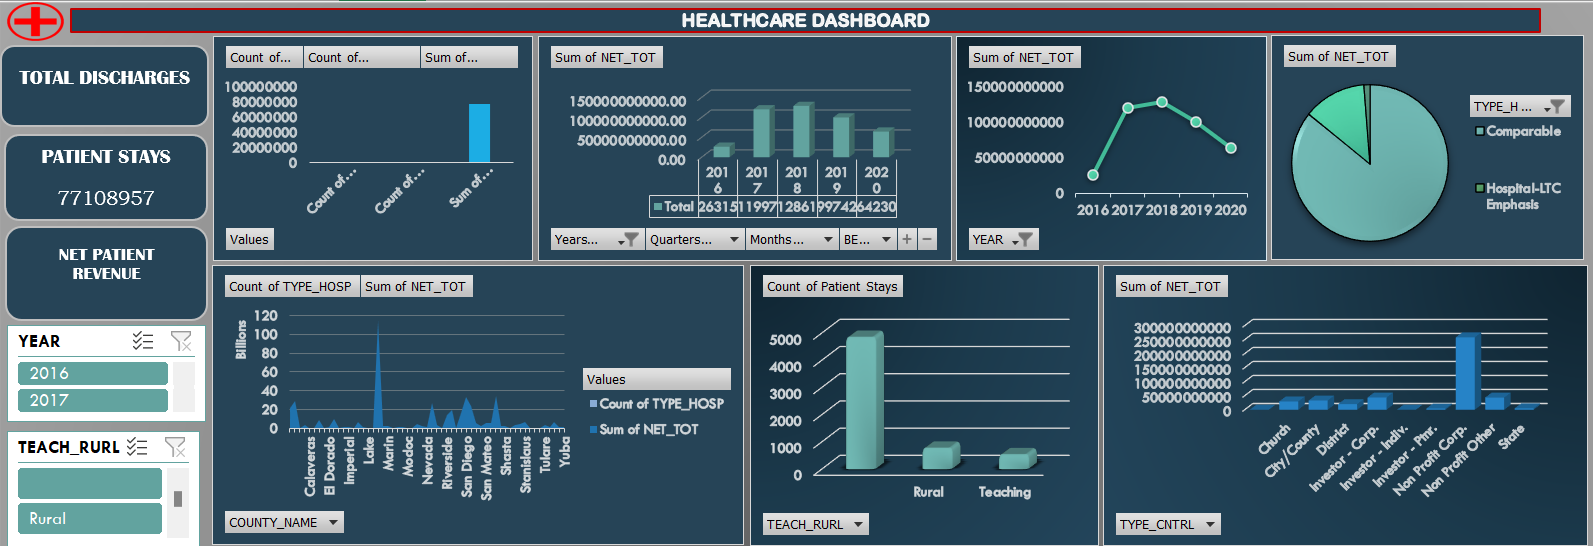

The dashboard page shown, as its layout file describes it:
{"tool":"tableau","page":{"name":"Dashboard 1","canvas":[1000,1000],"units":"permille","ordinal":0},"visuals":[{"type":"image","param":"Image/medical-report.png","box":[627.6,11.8,48.3,63.5]},{"type":"filter","title":"State Wise No of hospital /Revenue ","param":"[federated.0rp2sl00ircbj41g0j7jx0wzamno].[none:COUNTY_NAME:nk]","box":[882.2,11.8,96.1,59.1]},{"type":"image","param":"Image/medical-report.png","box":[289.2,15.2,33.8,65.9]},{"type":"text","box":[322.1,15.2,340.3,59.1]},{"type":"worksheet","title":"Total Discharge","mark":"Automatic","rows":["DIS_TOT"],"cols":["TYPE_HOSP"],"box":[3.7,85.8,161.3,580.5]},{"type":"worksheet","title":"Patient Days","mark":"Bar","rows":["DAY_TOT"],"cols":["TYPE_HOSP"],"box":[166.2,85.8,171.8,580.5]},{"type":"worksheet","title":" Patient Stays   ","mark":"Automatic","rows":["PAT_DAY_TOT_CC"],"cols":["TEACH_RURL"],"box":[338.9,85.8,157.2,580.5]},{"type":"worksheet","title":"Net Patient Revenue ","mark":"Automatic","rows":["NET_TOT"],"cols":["TYPE_CNTRL"],"box":[497.2,85.8,163.9,580.5]},{"type":"worksheet","title":"Type Of hospital Revenue","mark":"Automatic","rows":["NET_TOT"],"cols":["TYPE_HOSP"],"box":[663.6,85.8,158.4,581.7]},{"type":"worksheet","title":" Total Patient, Total Doctor, Total Hospital","mark":"Circle","box":[823.8,85.8,179.9,581.7]},{"type":"worksheet","title":"MTD/QTD/YTD Revenue","mark":"Bar","rows":["NET_TOT"],"cols":["BEG_DATE"],"box":[733.9,666.3,267.4,332.6]},{"type":"worksheet","title":"Revenue Trend","mark":"Line","rows":["NET_TOT"],"cols":["YEAR"],"box":[4.3,668.6,295.3,323.2]},{"type":"worksheet","title":"State Wise No of hospital /Revenue ","mark":"Automatic","rows":["NET_TOT"],"cols":["TYPE_HOSP","COUNTY_NAME"],"box":[301.5,668.6,430.5,326.7]},{"type":"legend","title":"MTD/QTD/YTD Revenue","param":"[federated.0rp2sl00ircbj41g0j7jx0wzamno].[yr:BEG_DATE:ok]","box":[923.8,729.7,72.7,74.3]}]}

Visuals, with their boxes on the dashboard's canvas, which has no fixed pixel size, in thousandths of its width and height (x1, y1, x2, y2). These are canvas units, not pixel positions in the 1593x546 screenshot, which may show the page scaled, cropped or inside an application window:
image: <box>628,12,676,75</box>
"State Wise No of hospital /Revenue " filter: <box>882,12,978,71</box>
image: <box>289,15,323,81</box>
text: <box>322,15,662,74</box>
"Total Discharge" worksheet: <box>4,86,165,666</box>
"Patient Days" worksheet (Bar marks): <box>166,86,338,666</box>
" Patient Stays   " worksheet: <box>339,86,496,666</box>
"Net Patient Revenue " worksheet: <box>497,86,661,666</box>
"Type Of hospital Revenue" worksheet: <box>664,86,822,668</box>
" Total Patient, Total Doctor, Total Hospital" worksheet (Circle marks): <box>824,86,1004,668</box>
"MTD/QTD/YTD Revenue" worksheet (Bar marks): <box>734,666,1001,999</box>
"Revenue Trend" worksheet (Line marks): <box>4,669,300,992</box>
"State Wise No of hospital /Revenue " worksheet: <box>302,669,732,995</box>
"MTD/QTD/YTD Revenue" legend: <box>924,730,996,804</box>
